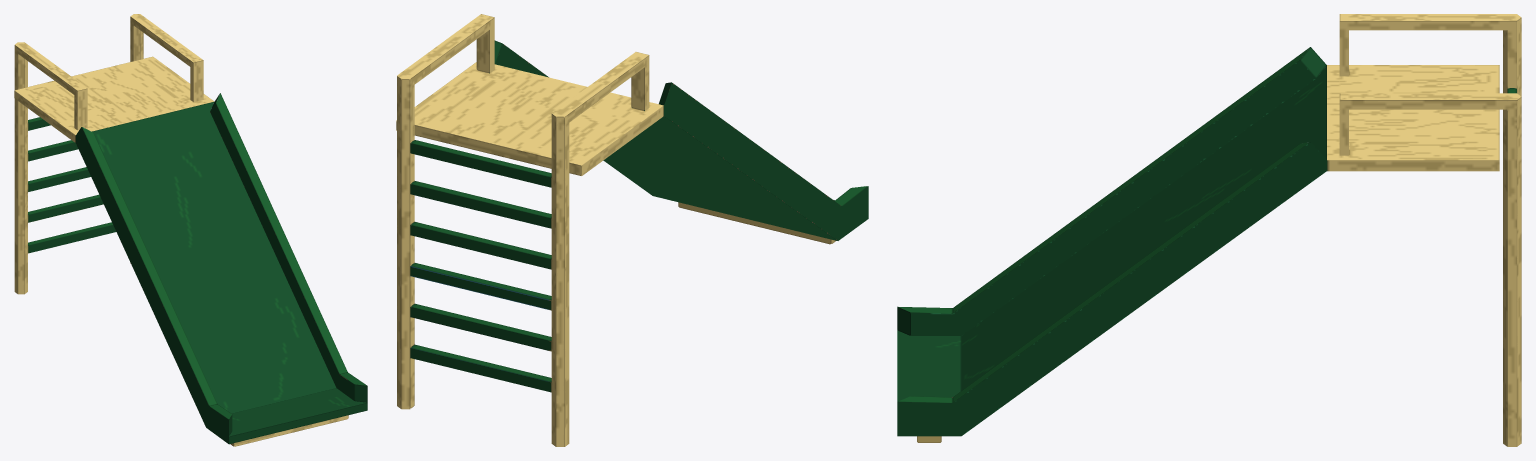
The model's file is Slide.fbx.
3 renders of one model, left to right at view 1: azimuth 30°, elevation 25°; view 2: azimuth 150°, elevation 25°; view 3: azimuth 270°, elevation 25°, orthographic. The views are drawn at different scales.
Visible parts, largest first — view 1: Slide; view 2: Slide; view 3: Slide.
Part boxes in pixels (x1,y1,x2,y2): Slide: [14, 14, 367, 446]; Slide: [396, 14, 868, 446]; Slide: [897, 14, 1521, 446].
Size of the model in its own units: 224 by 381 by 622.
Materials: 1 (1 with a texture image).
